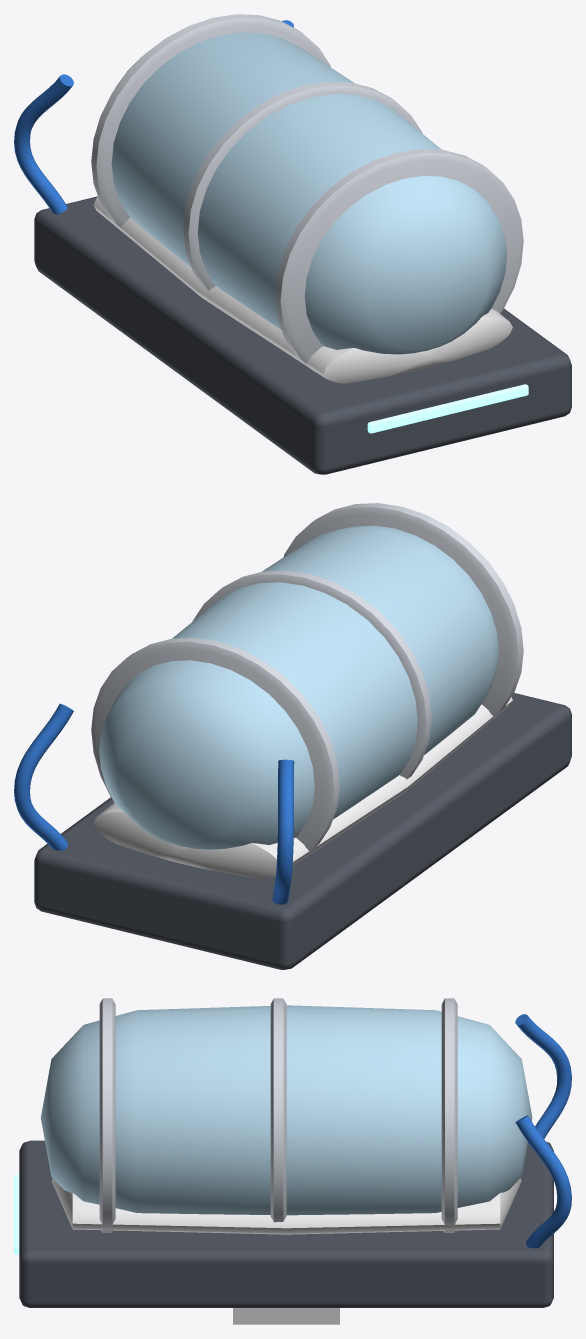
Rendered from CryoCapsule.fbx.
3 views of the same model, one above another, from view 1: azimuth 30°, elevation 25°; view 2: azimuth 150°, elevation 25°; view 3: azimuth 270°, elevation 25° (orthographic). The views are drawn at different scales.
Visible parts, largest first — view 1: Body__Glass, Body__MetalDark, Body__Chrome, Body__White, Body__Blue, Led__NeonCyan; view 2: Body__Glass, Body__MetalDark, Body__Chrome, Body__White, Body__Blue; view 3: Body__Glass, Body__MetalDark, Body__Chrome, Body__White, Body__Blue, Origin__Pivot, Led__NeonCyan.
Boxes of the visible parts, bbox=[...] form: Body__Glass: bbox=[111, 32, 507, 354]; Body__MetalDark: bbox=[34, 196, 571, 474]; Body__Chrome: bbox=[91, 14, 523, 373]; Body__White: bbox=[93, 197, 512, 383]; Body__Blue: bbox=[14, 20, 293, 214]; Led__NeonCyan: bbox=[367, 384, 528, 433]; Body__Glass: bbox=[99, 525, 498, 849]; Body__MetalDark: bbox=[34, 693, 571, 969]; Body__Chrome: bbox=[91, 503, 523, 852]; Body__White: bbox=[93, 697, 512, 878]; Body__Blue: bbox=[14, 703, 294, 904]; Body__Glass: bbox=[40, 1005, 532, 1215]; Body__MetalDark: bbox=[19, 1140, 553, 1307]; Body__Chrome: bbox=[99, 998, 457, 1232]; Body__White: bbox=[51, 1178, 521, 1234]; Body__Blue: bbox=[515, 1014, 571, 1248]; Origin__Pivot: bbox=[233, 1308, 339, 1324]; Led__NeonCyan: bbox=[14, 1174, 19, 1254].
Size of the model in its own units: 2.78 by 3 by 5.22.
